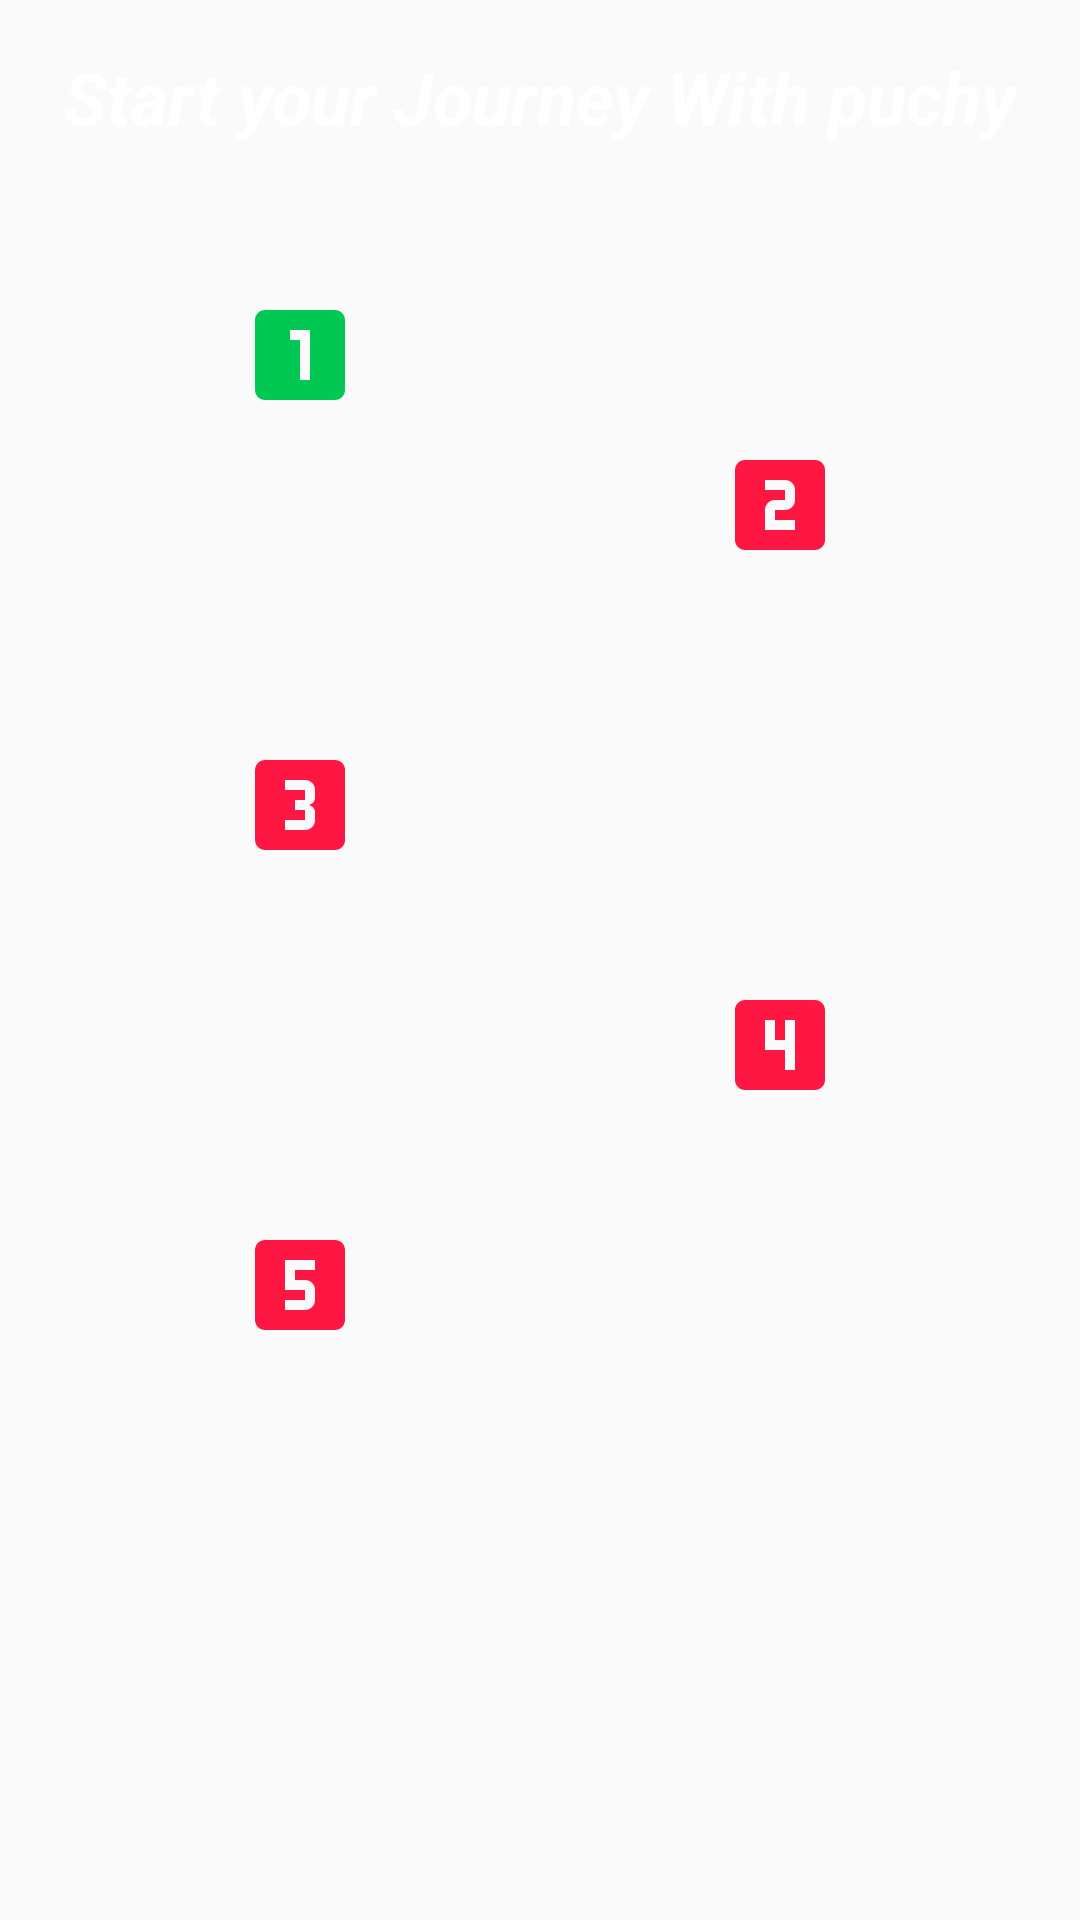

Locate icon controls on the screen. Image size 1080w x 1920h, boxes as (x1, y1, x2, y2).
looks one: (255, 310, 345, 400)
looks two: (735, 460, 825, 550)
